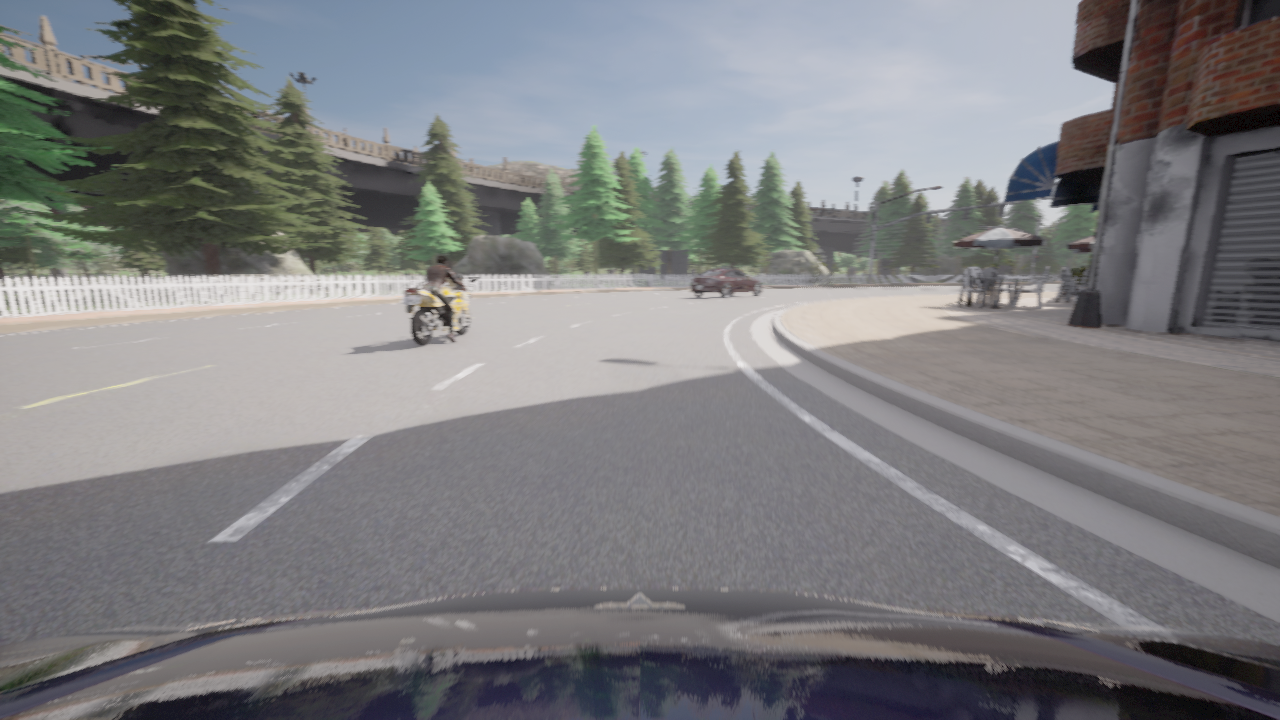cyclist: (0, 588, 1279, 719), (402, 277, 476, 345), (690, 268, 762, 298)
